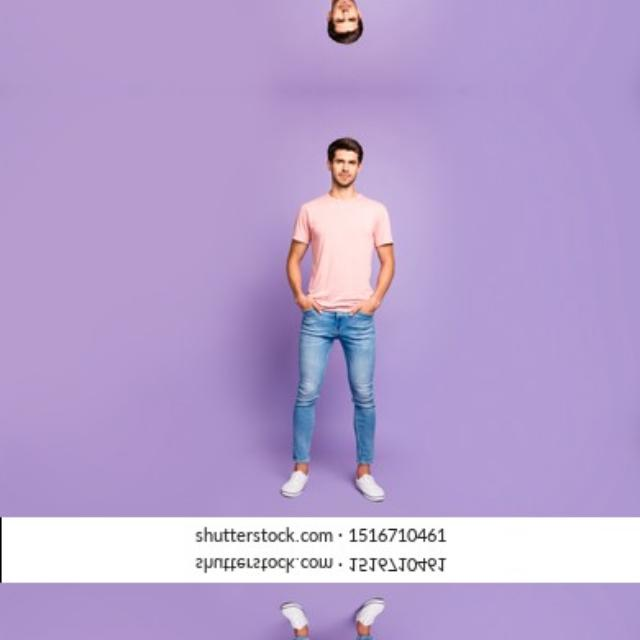person: (259, 125, 435, 528), (259, 571, 435, 640), (259, 0, 435, 55)
